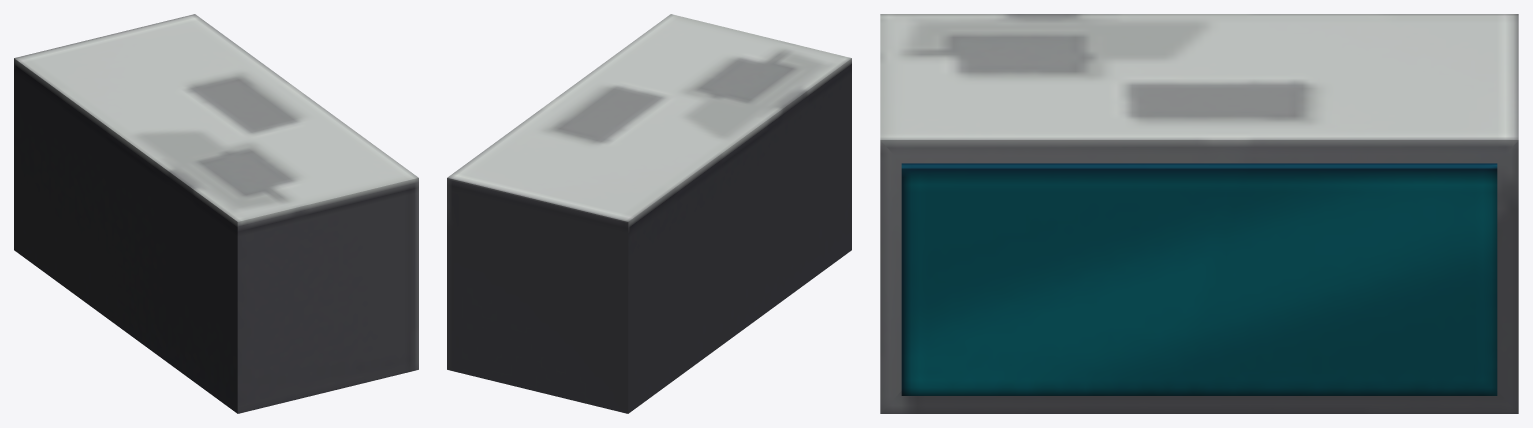
File: Tx_prop_counter_4.fbx
The picture shows the model from 3 angles, left to right: view 1: azimuth 30°, elevation 25°; view 2: azimuth 150°, elevation 25°; view 3: azimuth 270°, elevation 25°; orthographic projection. The views are drawn at different scales.
Parts seen in each view (by area): view 1: Tx_prop_counter_11; view 2: Tx_prop_counter_11; view 3: Tx_prop_counter_11.
Part boxes in pixels (box(x1,y1,x2,y2)): Tx_prop_counter_11: box(14, 14, 418, 413); Tx_prop_counter_11: box(447, 14, 851, 413); Tx_prop_counter_11: box(880, 14, 1518, 413).
Size of the model in its own units: 3.69 by 3.59 by 7.59.
